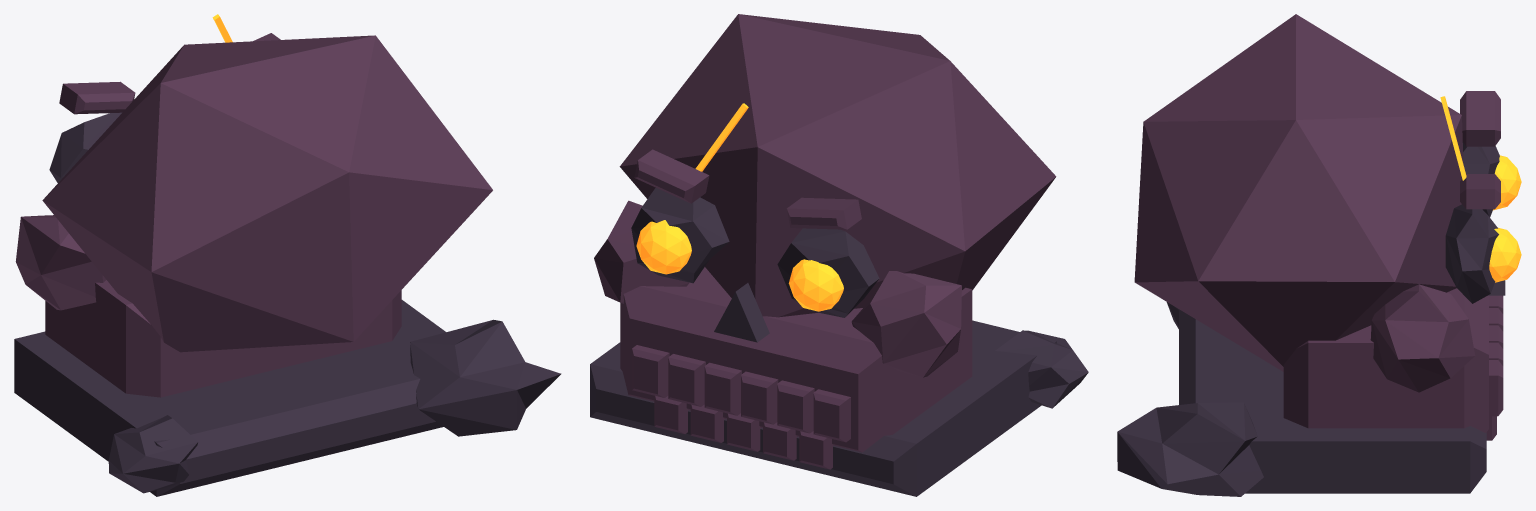
The model's file is LAVA_SKULL_ROCK.glb.
3 views of the same model, side by side, from view 1: azimuth 30°, elevation 25°; view 2: azimuth 150°, elevation 25°; view 3: azimuth 270°, elevation 25° (orthographic). The views are drawn at different scales.
Parts seen in each view (by area): view 1: Basalt, Ash; view 2: Basalt, Ash, Glow; view 3: Basalt, Ash, Glow.
Part boxes in pixels (<box>): Basalt: <box>15,33,492,397</box>; Ash: <box>14,112,561,496</box>; Basalt: <box>594,14,1056,469</box>; Ash: <box>590,188,1088,496</box>; Glow: <box>636,103,843,311</box>; Basalt: <box>1134,14,1503,440</box>; Ash: <box>1117,142,1505,496</box>; Glow: <box>1440,96,1521,282</box>.
Size of the model in its own units: 11.68 by 9.57 by 10.
